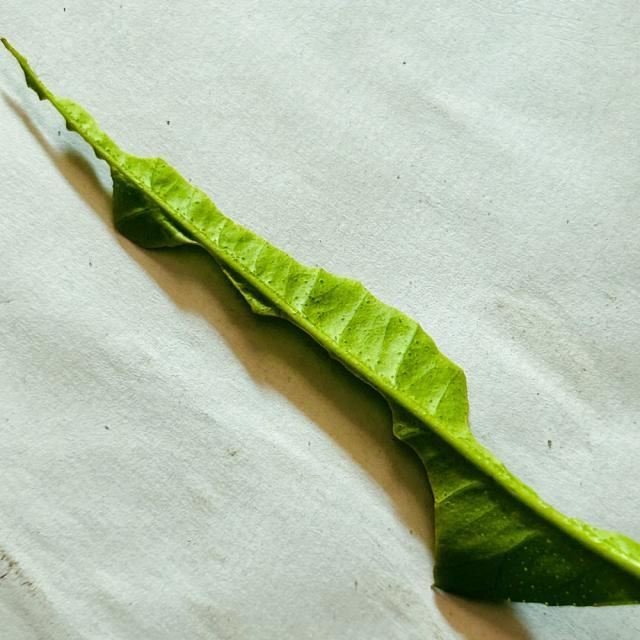Deficiency Leaf: (158, 243, 435, 574), (471, 377, 639, 555)
Lemon: (4, 38, 639, 605)
